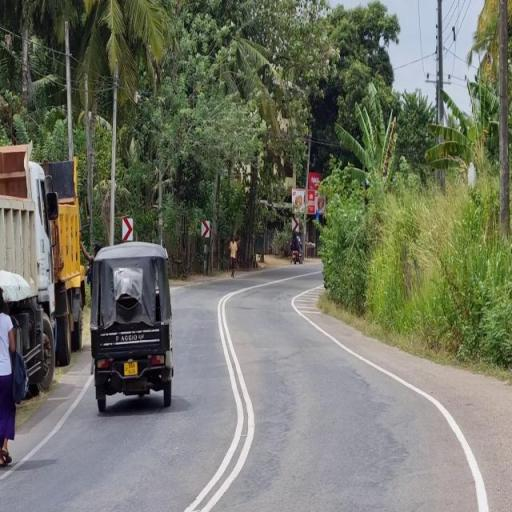double_white_line: (181, 290, 260, 510), (0, 376, 87, 482)
